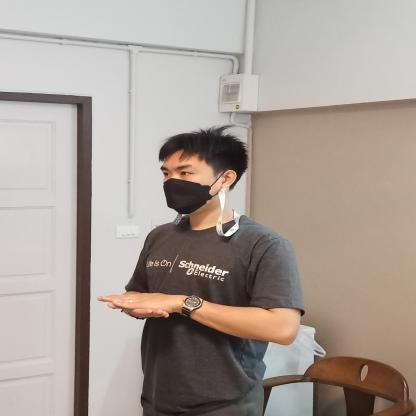Love: (73, 265, 234, 339)
